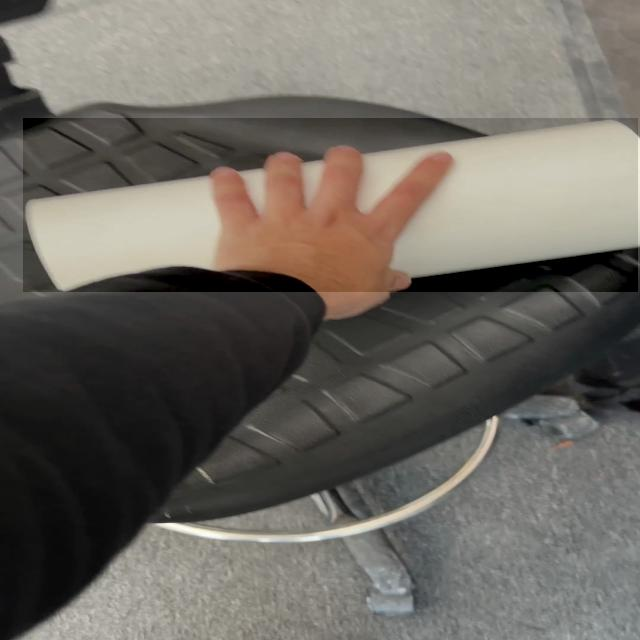Coral: (23, 118, 638, 292)
